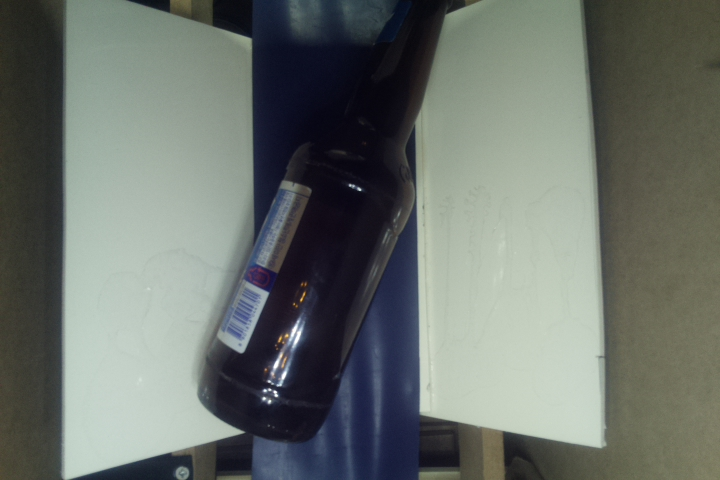makju: (191, 1, 447, 444)
